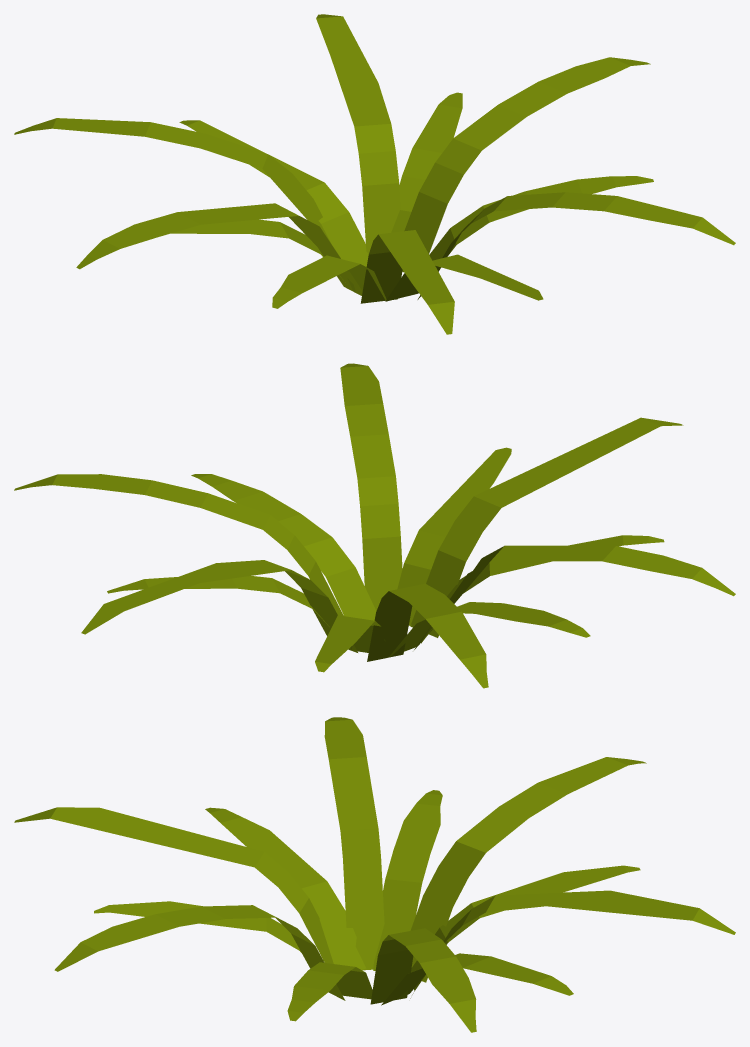
Rendered from bush1_ud.fbx.
The picture shows the model from 3 angles, top to bottom: view 1: azimuth 30°, elevation 25°; view 2: azimuth 150°, elevation 25°; view 3: azimuth 270°, elevation 25°; orthographic projection.
Visible parts, largest first — view 1: Plane.001; view 2: Plane.001; view 3: Plane.001.
Boxes of the visible parts, x1,y1,x2,y2 form: Plane.001: [14, 14, 735, 334]; Plane.001: [14, 363, 735, 688]; Plane.001: [14, 717, 735, 1032].
Size of the model in its own units: 489 by 93.55 by 475.
